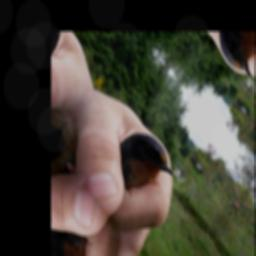Swallow: (104, 115, 182, 215)
